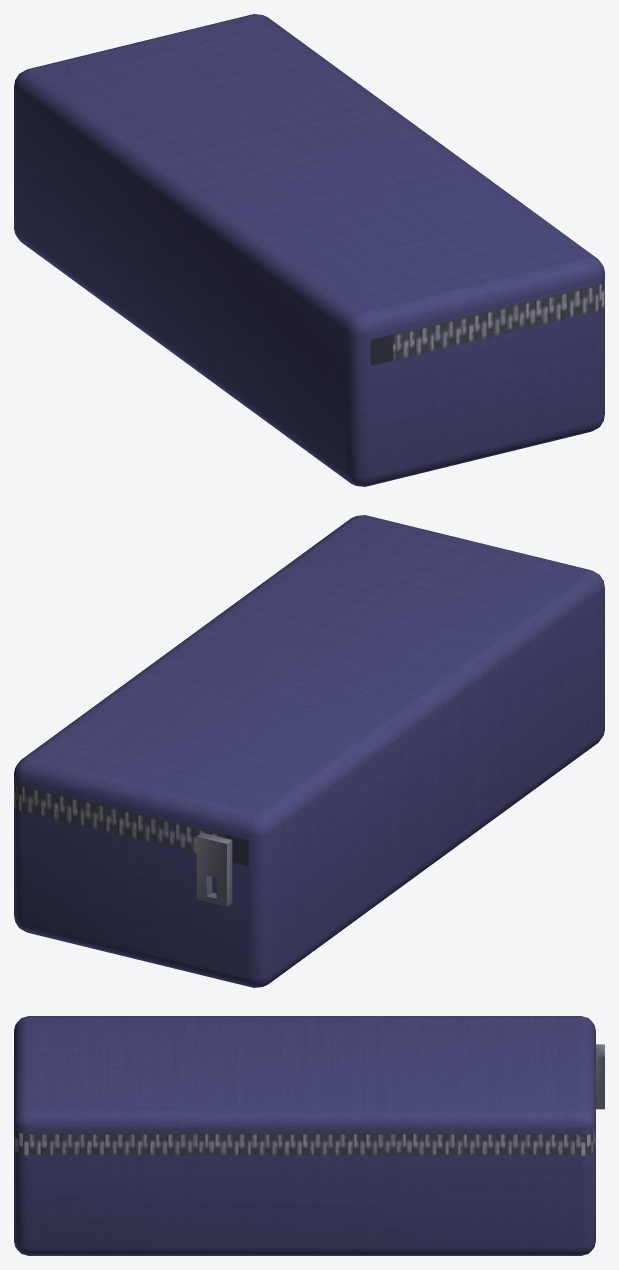
The model's file is field_object_01.glb.
3 views of the same model, one above another, from view 1: azimuth 30°, elevation 25°; view 2: azimuth 150°, elevation 25°; view 3: azimuth 270°, elevation 25° (orthographic). The views are drawn at different scales.
Visible parts, largest first — view 1: obj1; view 2: obj1; view 3: obj1.
Part boxes in pixels (x1=…): obj1: x1=14, y1=14, x2=604, y2=486; obj1: x1=14, y1=515, x2=604, y2=987; obj1: x1=14, y1=1016, x2=604, y2=1255.
Bounding box in the file's own units: 8.5 × 5.5 × 20.31.
1 material, 1 textured.
